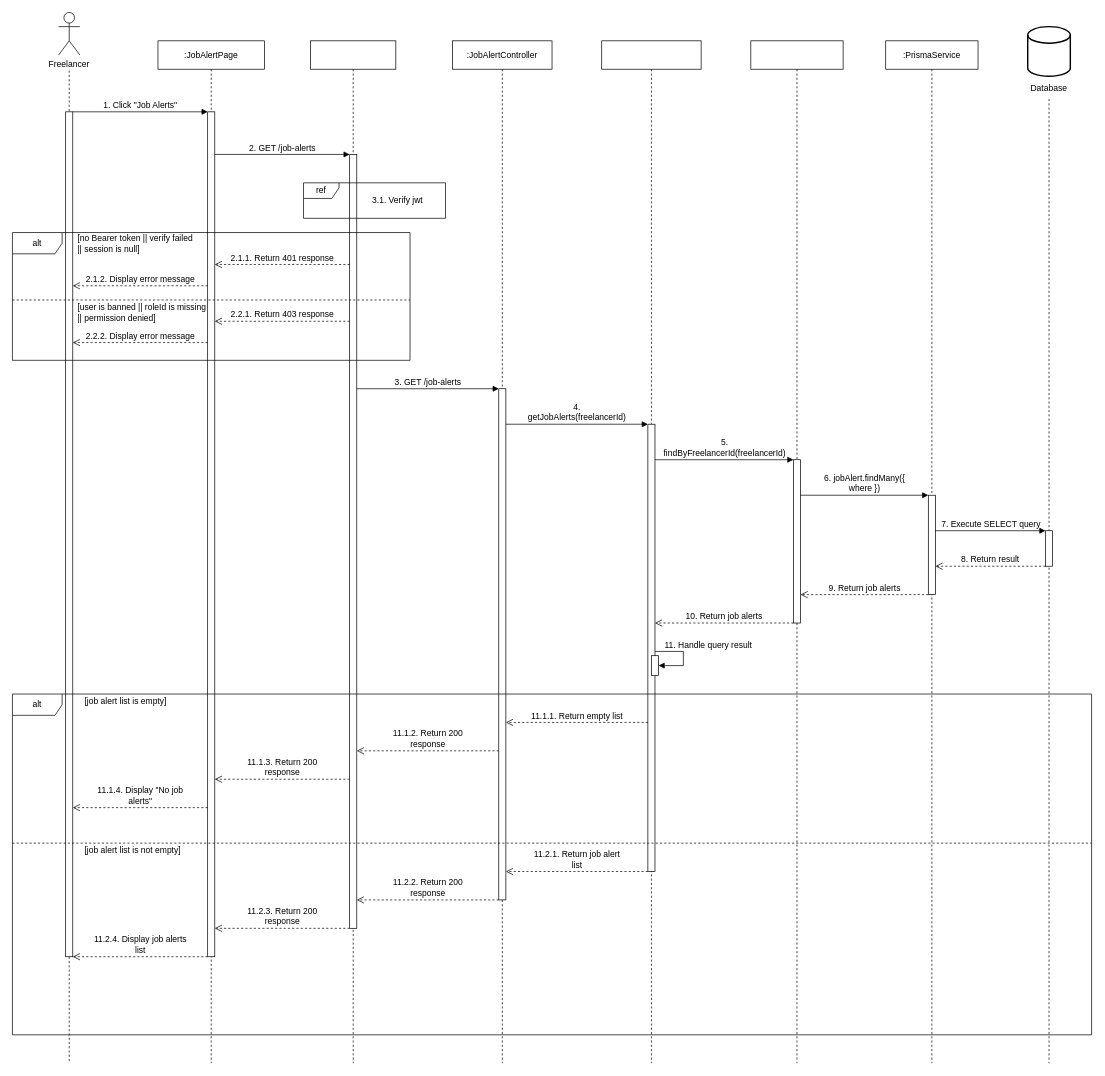
The diagram is 1105 pixels wide and 1076 high, and some of its shapes have lost their labels. The box of each missing label's shape, as (x1, y1, x2, y2) in pixels:
:JobAlertRepo: (750, 40, 843, 1063)
:JobAlertRoute: (310, 40, 396, 1063)
:JobAlertService: (601, 40, 701, 1063)
